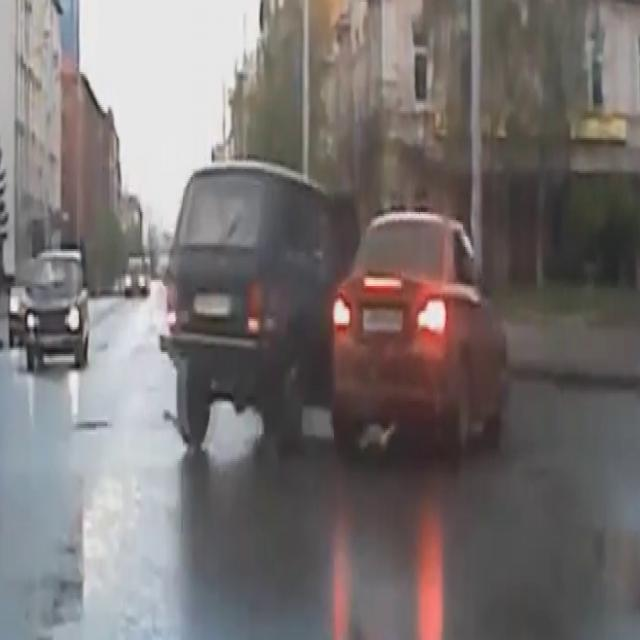accident: (172, 144, 513, 456)
